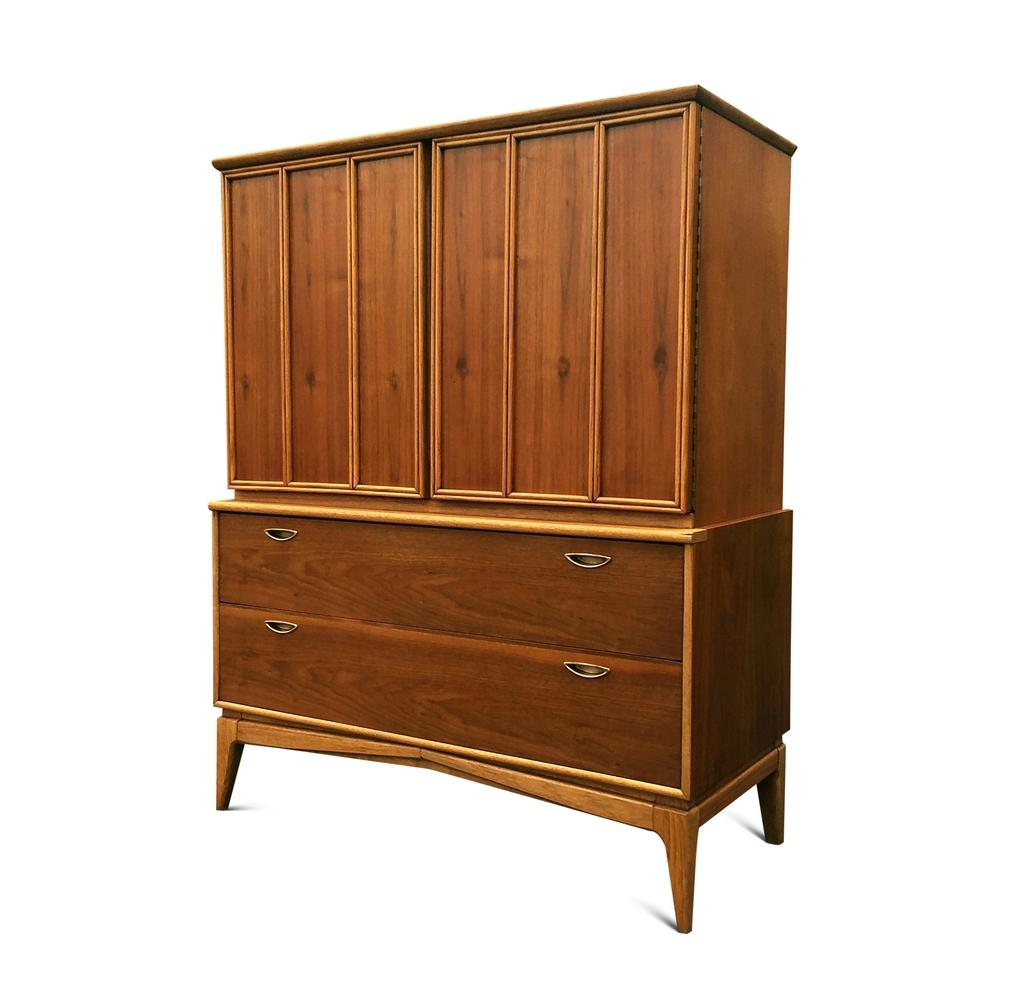cabinet_door: (226, 622, 680, 774), (224, 526, 674, 636)
handle: (559, 548, 615, 582), (556, 660, 610, 686), (264, 612, 298, 646), (256, 524, 302, 545)
